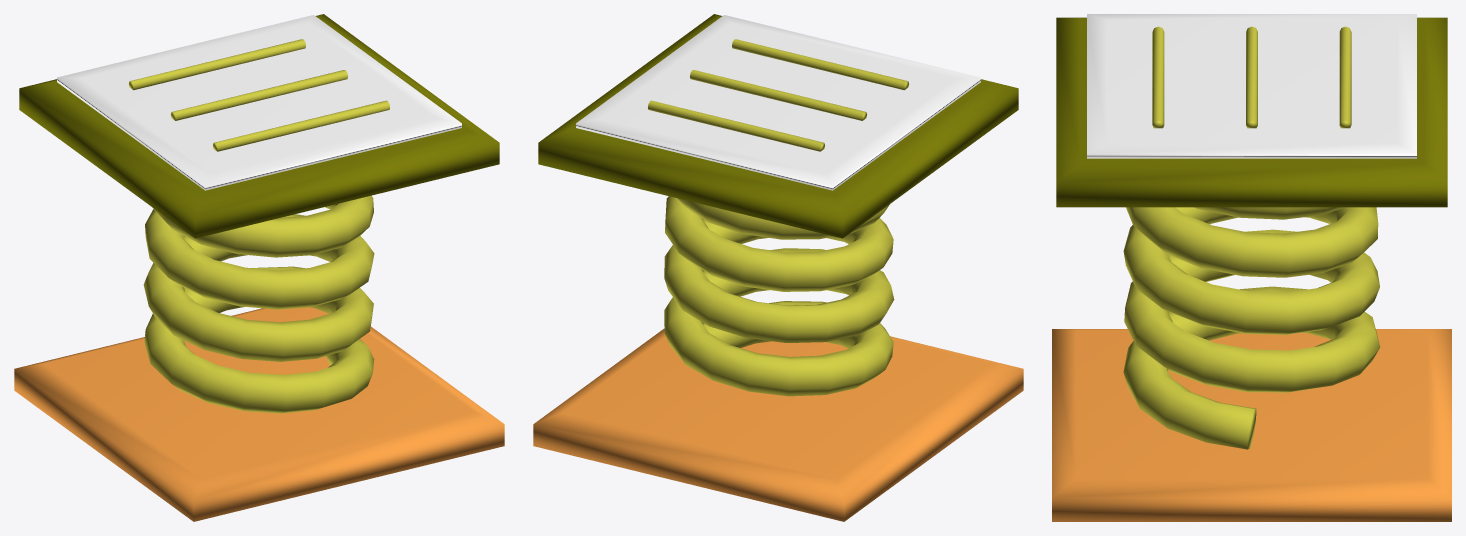
The model's file is Spring.glb.
The picture shows the model from 3 angles, left to right: view 1: azimuth 30°, elevation 25°; view 2: azimuth 150°, elevation 25°; view 3: azimuth 270°, elevation 25°; orthographic projection. The views are drawn at different scales.
Parts seen in each view (by area): view 1: Deck, Body, Coil, Grip; view 2: Deck, Body, Coil, Grip; view 3: Deck, Body, Coil, Grip.
Part boxes in pixels (<box>): Deck: <box>19,14,499,238</box>; Body: <box>14,307,504,521</box>; Coil: <box>143,195,374,413</box>; Grip: <box>129,39,389,151</box>; Deck: <box>538,14,1018,238</box>; Body: <box>533,328,1023,521</box>; Coil: <box>664,196,894,396</box>; Grip: <box>648,39,908,151</box>; Deck: <box>1056,14,1447,207</box>; Body: <box>1052,329,1451,521</box>; Coil: <box>1123,207,1380,449</box>; Grip: <box>1152,26,1351,128</box>.
Bounding box in the file's own units: 0.658 × 0.679 × 0.658.
1 material, 1 textured.
